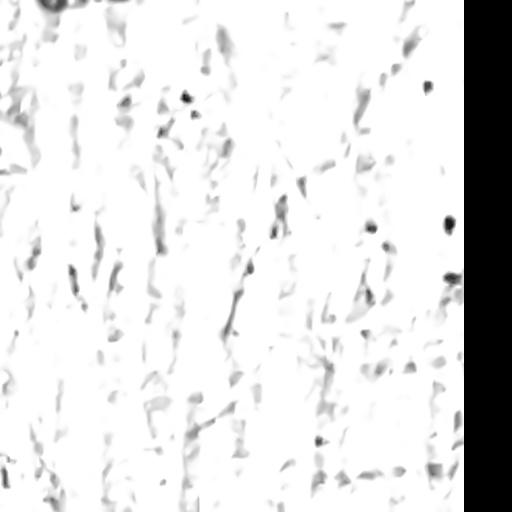egg: (443, 215, 455, 234), (425, 80, 433, 94)
